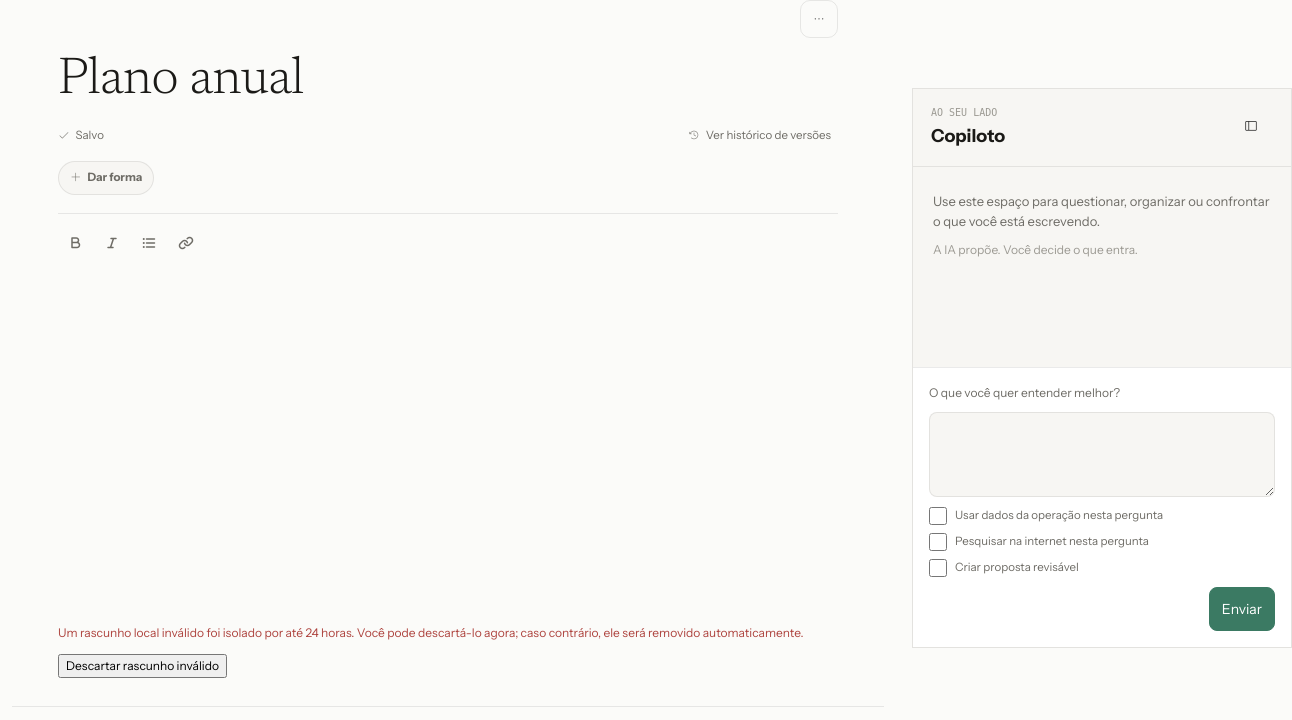
StudioEditor › keeps the recovery warning visible when discarding quarantine fails
The image size is (1292, 720).
Click the button "Descartar rascunho inválido" at (142, 666), box [58, 654, 227, 678]
(page scrolled)
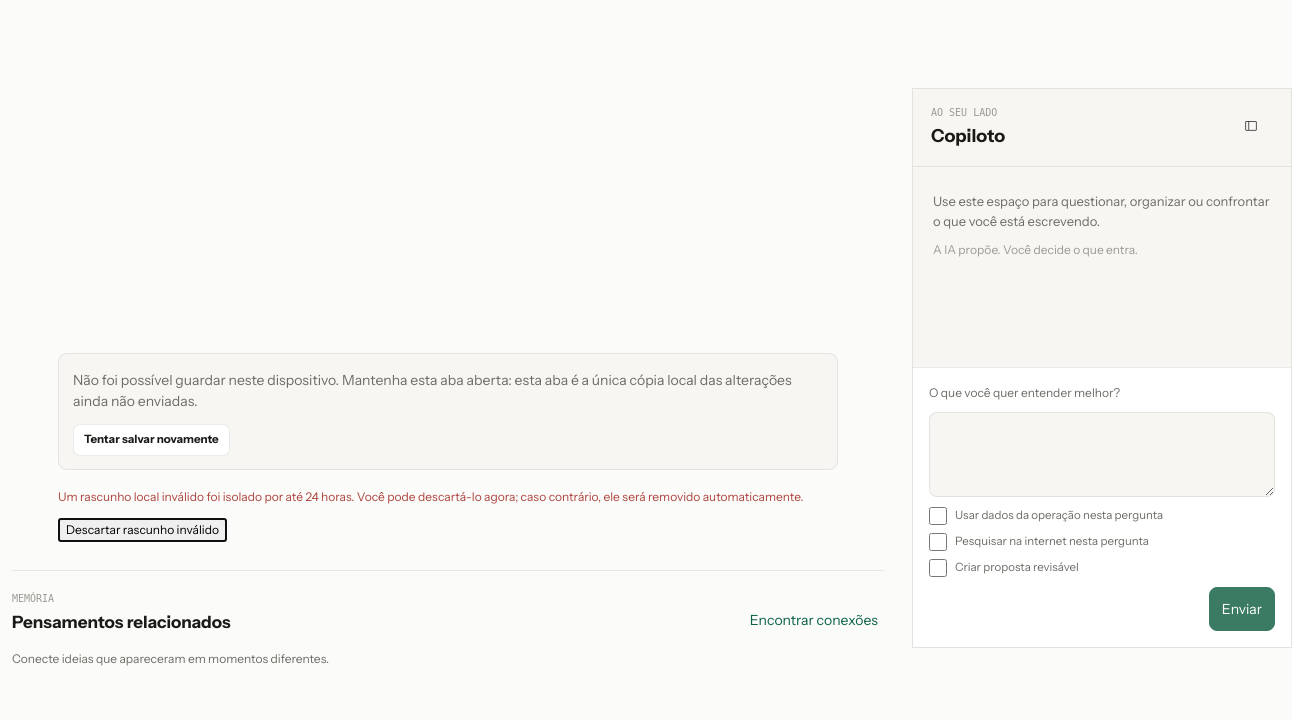
Expected: the message "rascunho local inválido" is shown, [58, 488, 838, 542]
Result: the message named "Armazenamento local indisponível" is shown at [58, 353, 838, 470]
